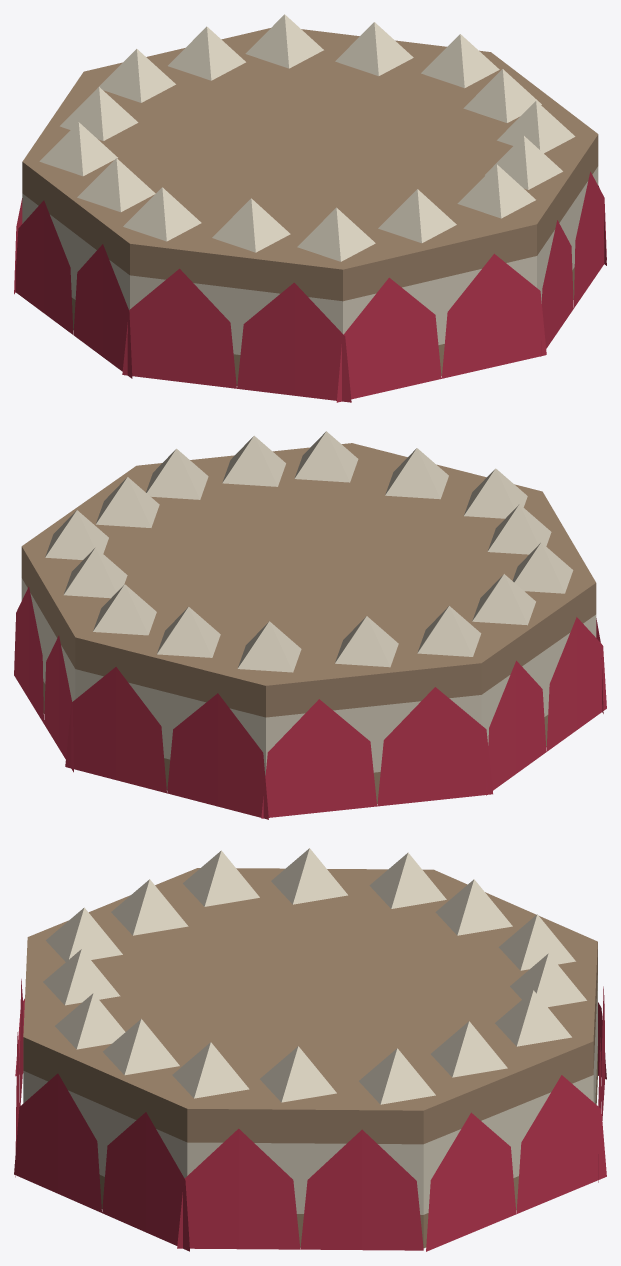
Rendered from cake.fbx.
3 views of the same model, one above another, from view 1: azimuth 30°, elevation 25°; view 2: azimuth 150°, elevation 25°; view 3: azimuth 270°, elevation 25° (orthographic). The views are drawn at different scales.
Parts seen in each view (by area): view 1: cake; view 2: cake; view 3: cake.
Part boxes in pixels (left/top/right/bottom): cake: left=14, top=14, right=606, bottom=402; cake: left=14, top=431, right=606, bottom=819; cake: left=14, top=848, right=606, bottom=1251.
Size of the model in its own units: 55.1 by 55.22 by 18.31.
